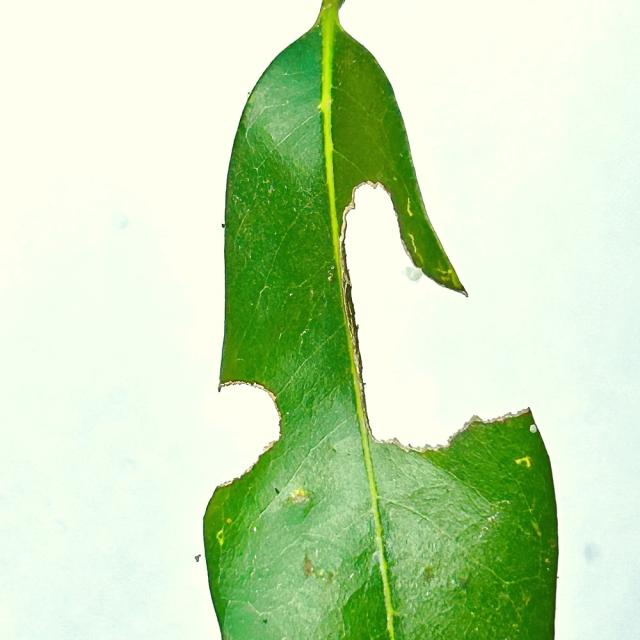Deficiency Leaf: (345, 186, 508, 447), (193, 383, 279, 517)
Lychee: (332, 26, 462, 289)
